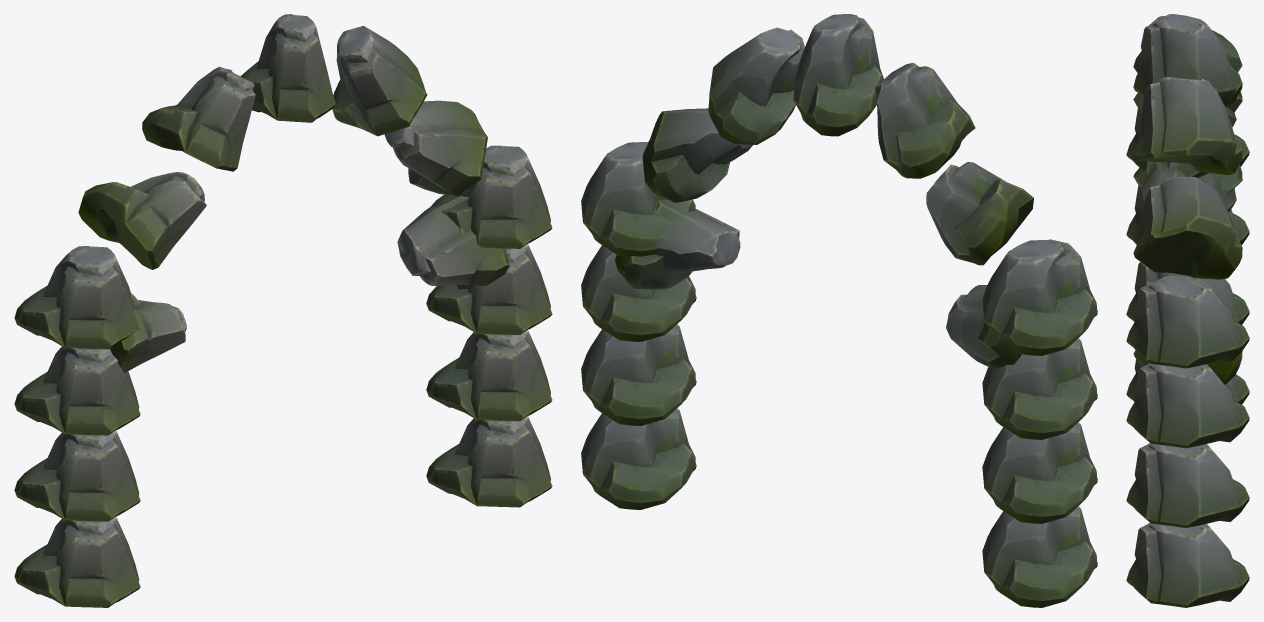
Rendered from Broken_Stone_Arch_Barren.glb.
3 renders of one model, left to right at view 1: azimuth 30°, elevation 25°; view 2: azimuth 150°, elevation 25°; view 3: azimuth 270°, elevation 25°, orthographic. The views are drawn at different scales.
Visible parts, largest first — view 1: Structure; view 2: Structure; view 3: Structure.
Part boxes in pixels (x1,y1,x2,y2): Structure: (14,14,552,607); Structure: (581,14,1097,607); Structure: (1126,14,1249,607).
Size of the model in its own units: 3.15 by 3.05 by 0.7.
Materials: 1 (1 with a texture image).
